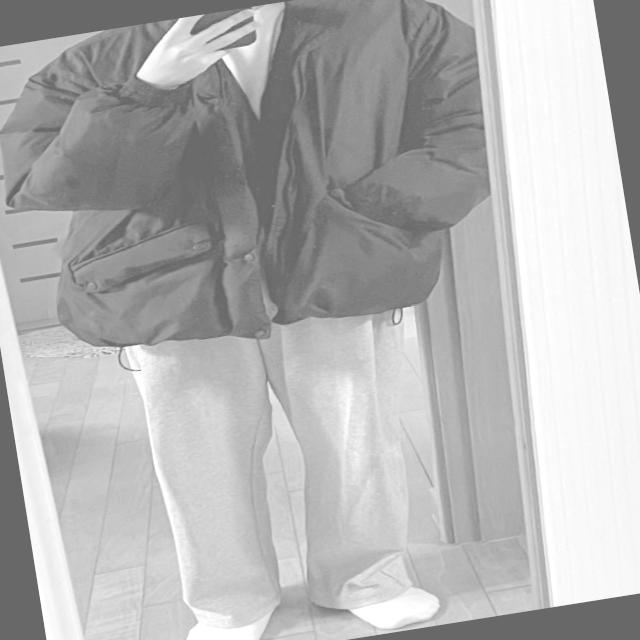padding: (0, 0, 507, 367)
trainingpants: (119, 292, 438, 638)
